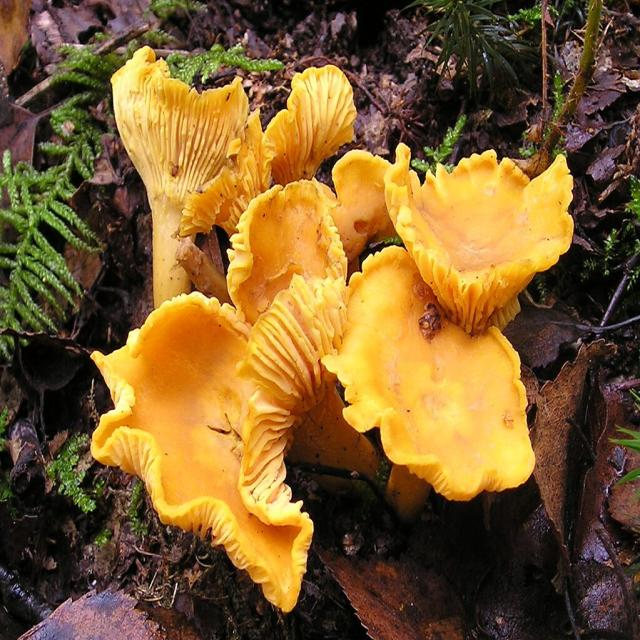chanterelle: (89, 182, 380, 615), (321, 247, 536, 503), (109, 47, 274, 309), (382, 145, 574, 337), (261, 66, 357, 184), (328, 150, 402, 268)
